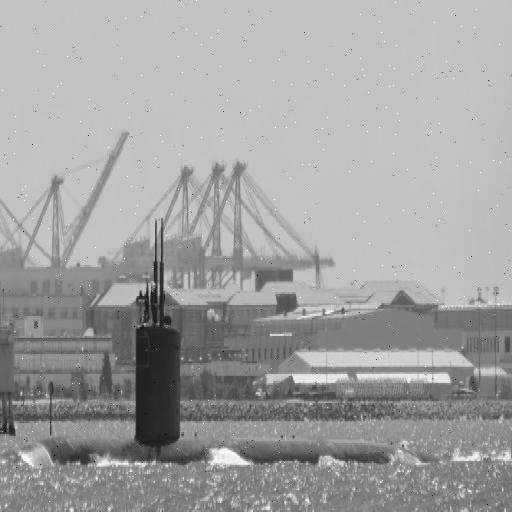submarine: (41, 333, 512, 467)
